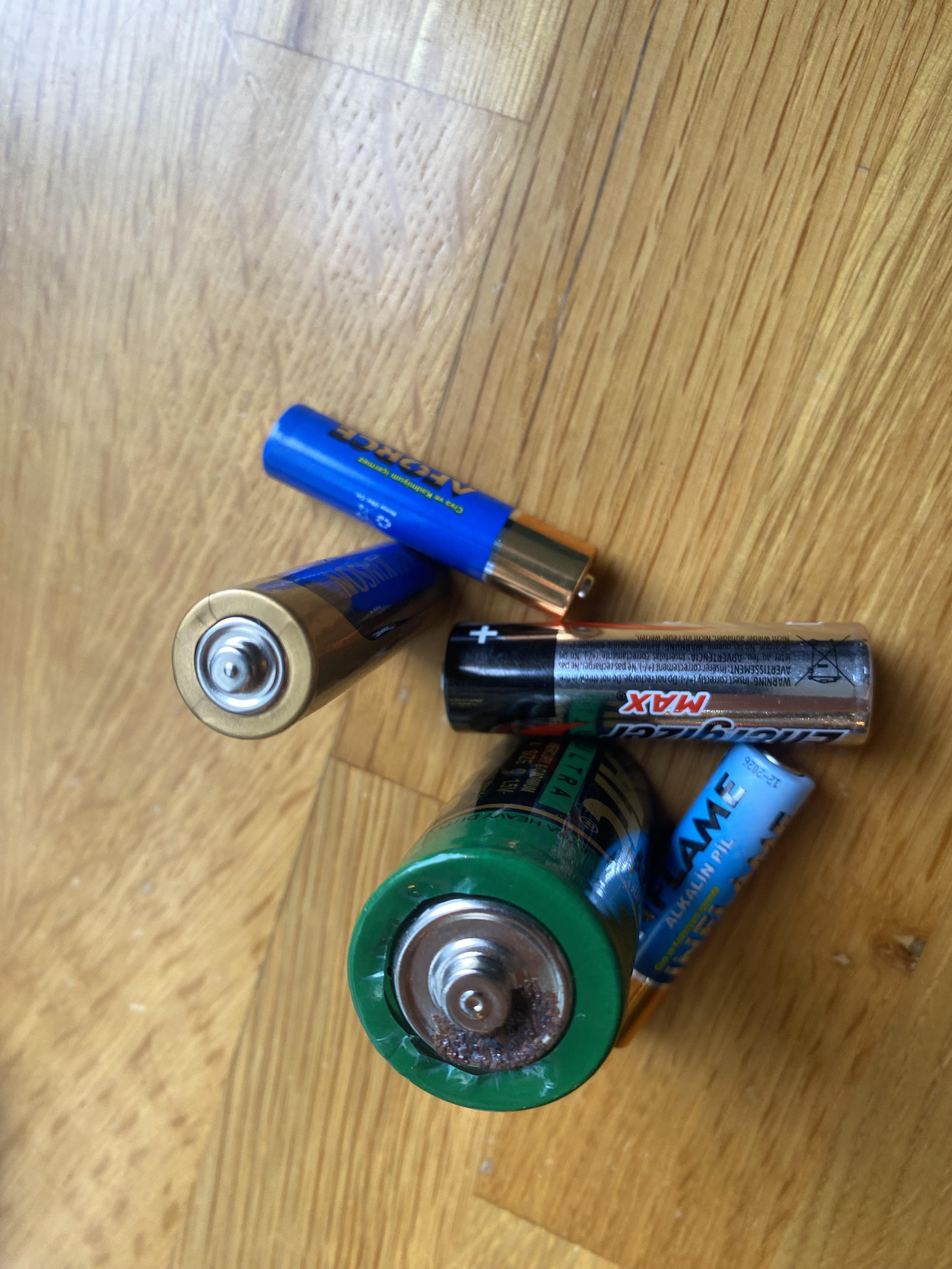AA: (431, 616, 880, 750)
AAA: (257, 397, 603, 626)
